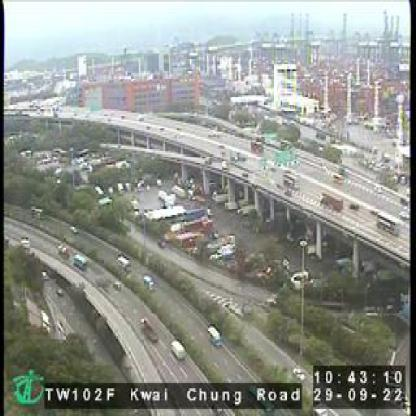Bus: (376, 210, 400, 239)
Car: (204, 324, 224, 347), (140, 274, 158, 293), (168, 340, 183, 362), (72, 255, 90, 270), (117, 252, 131, 270), (57, 242, 68, 257), (347, 198, 359, 209), (113, 282, 124, 290), (369, 206, 377, 212)
Truck: (317, 191, 341, 213), (138, 319, 158, 343)
